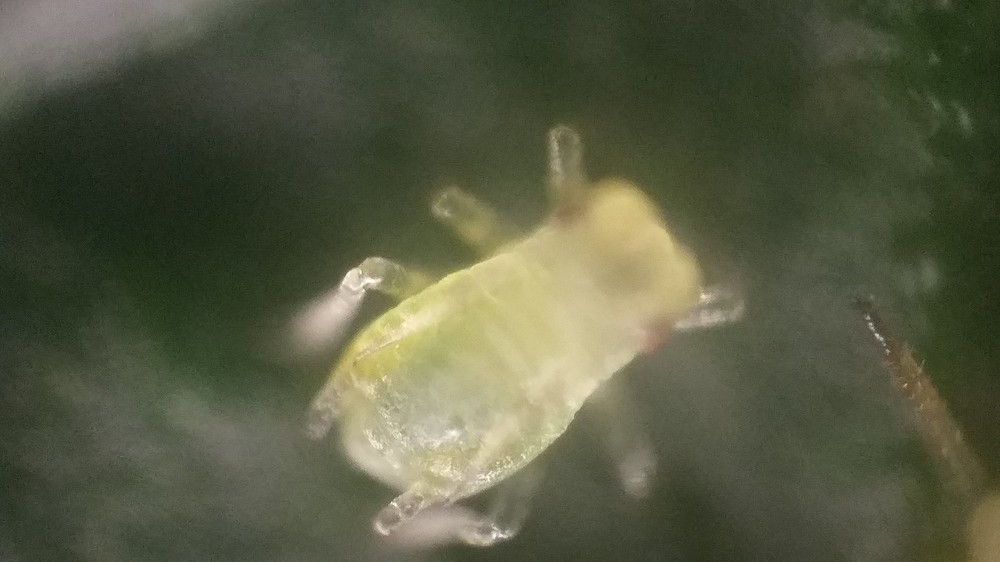Pulgon: (279, 113, 787, 558)
